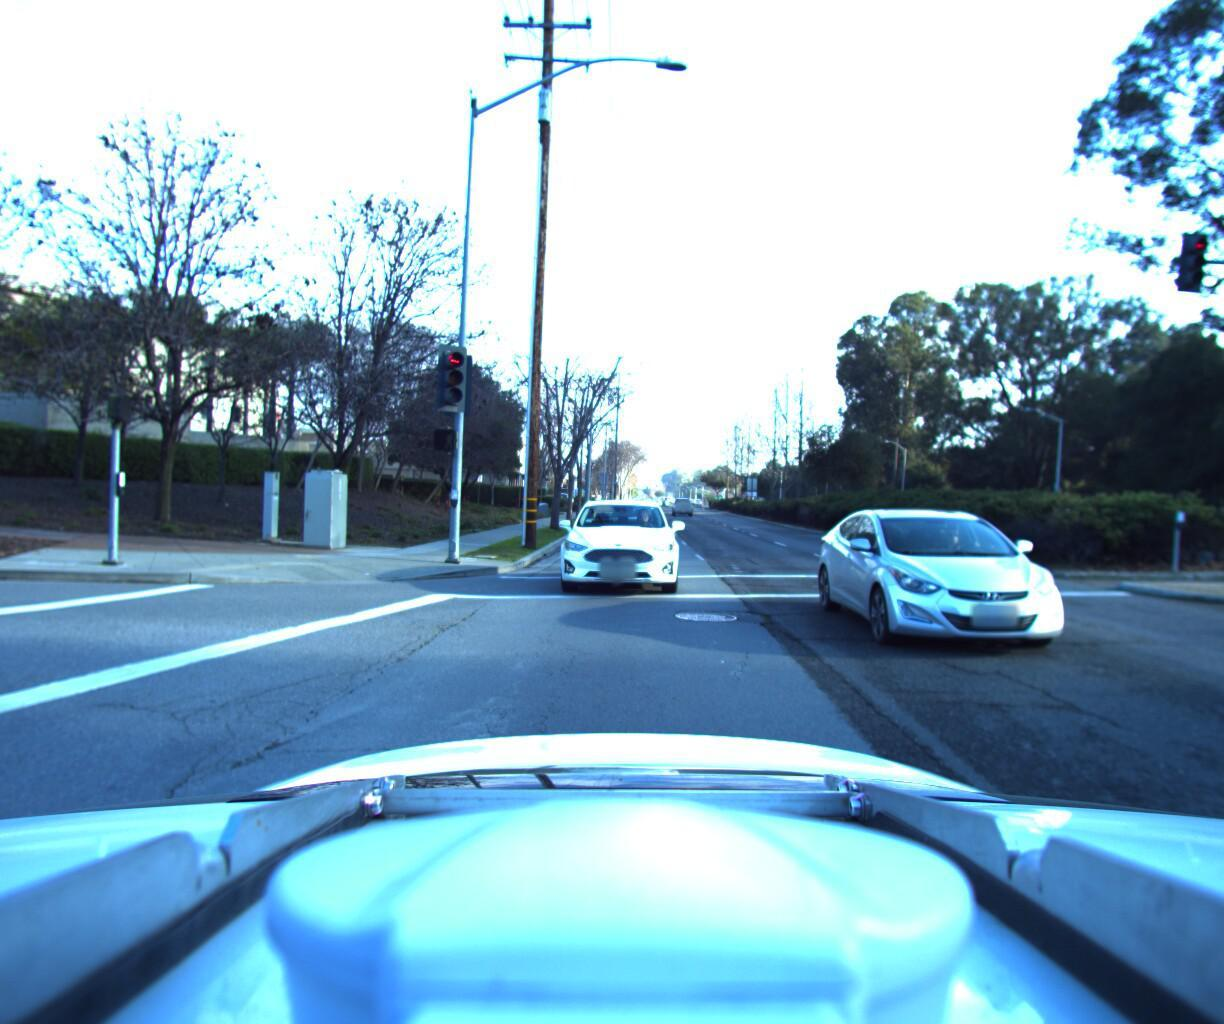car: (835, 496, 1200, 706), (555, 492, 679, 604), (669, 493, 693, 515)
